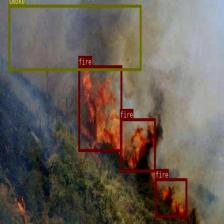fire: (78, 65, 122, 151), (119, 118, 156, 172), (155, 178, 187, 217)
smoke: (8, 5, 141, 70)
